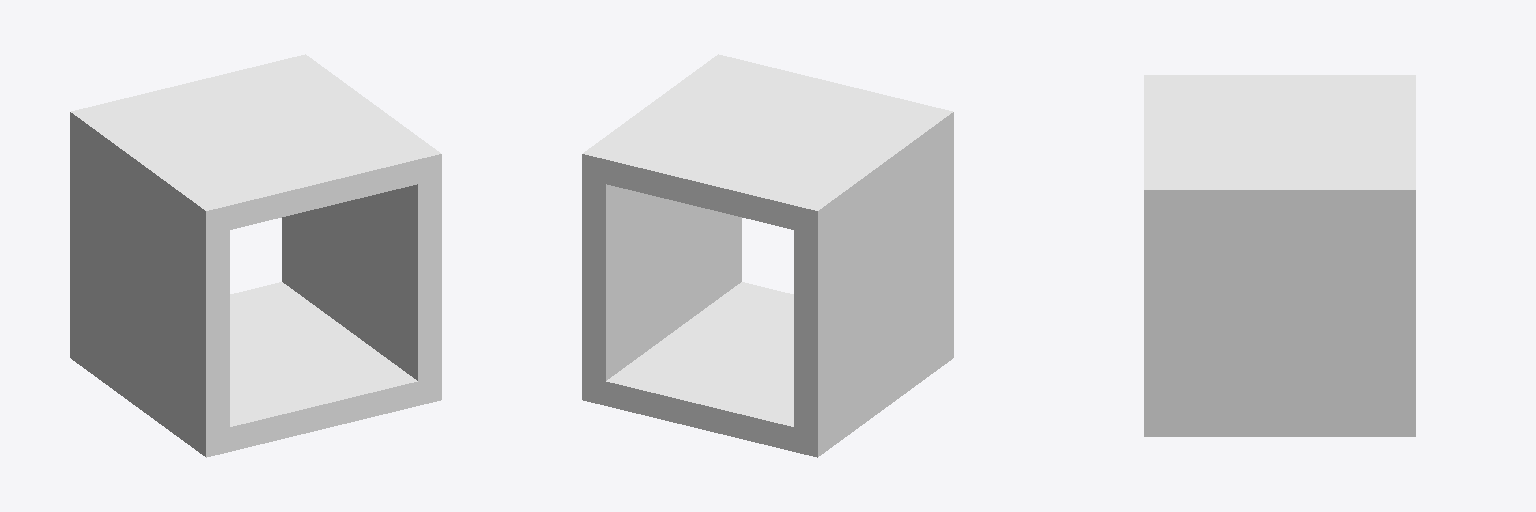
The model's file is invi_marca.obj.
3 views of the same model, side by side, from view 1: azimuth 30°, elevation 25°; view 2: azimuth 150°, elevation 25°; view 3: azimuth 270°, elevation 25° (orthographic).
Visible parts, largest first — view 1: object 1; view 2: object 1; view 3: object 1.
Part boxes in pixels (x1,y1,x2,y2): object 1: (70,54,441,457); object 1: (582,54,953,457); object 1: (1144,75,1415,436).
Size of the model in its own units: 4 by 4 by 4.